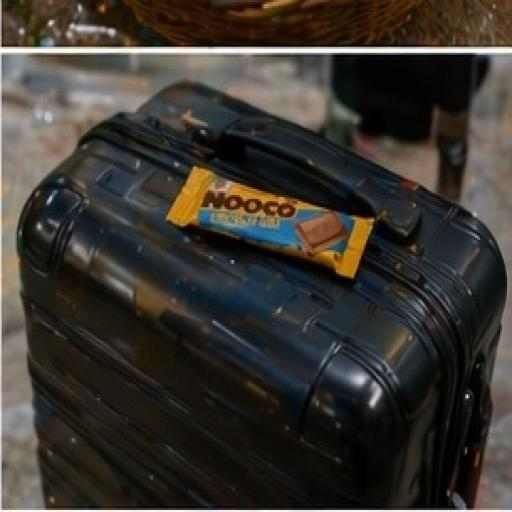biscuit-detection: (164, 131, 388, 331)
